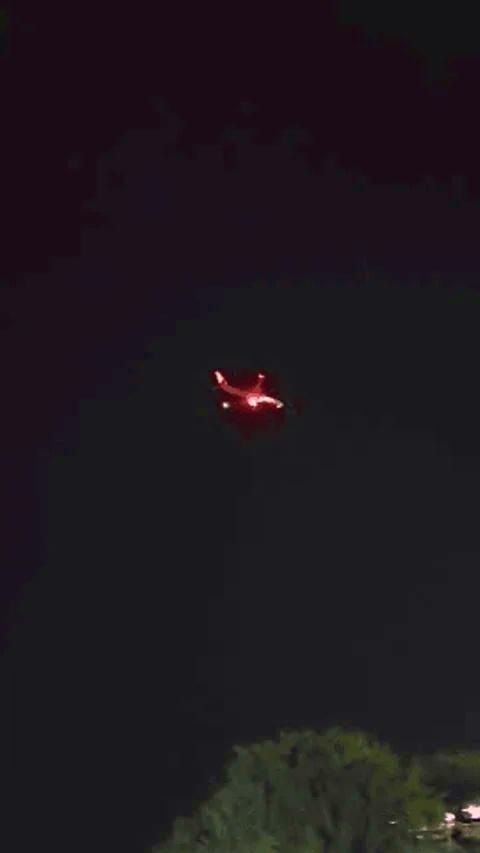Plane: (189, 330, 313, 464)
